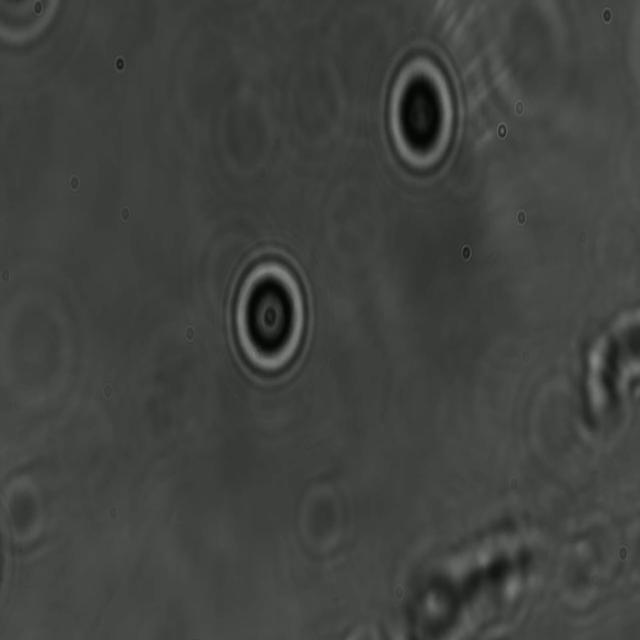LCELL: (221, 239, 318, 394)
